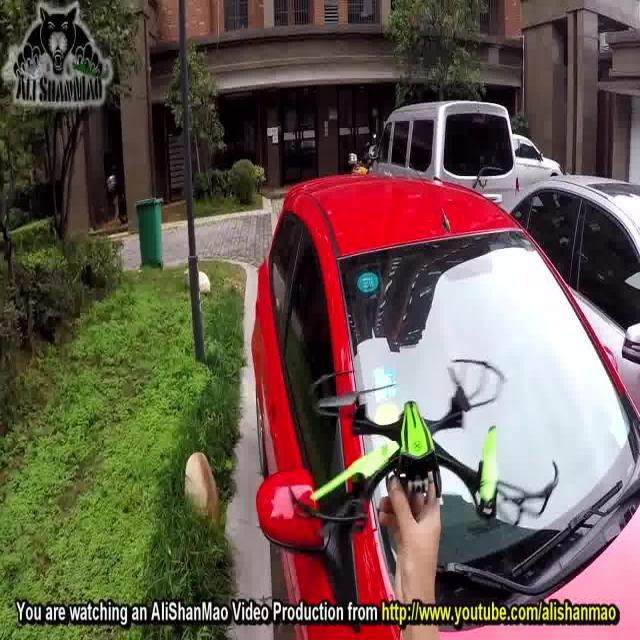Drone_FW: (286, 348, 560, 540)
